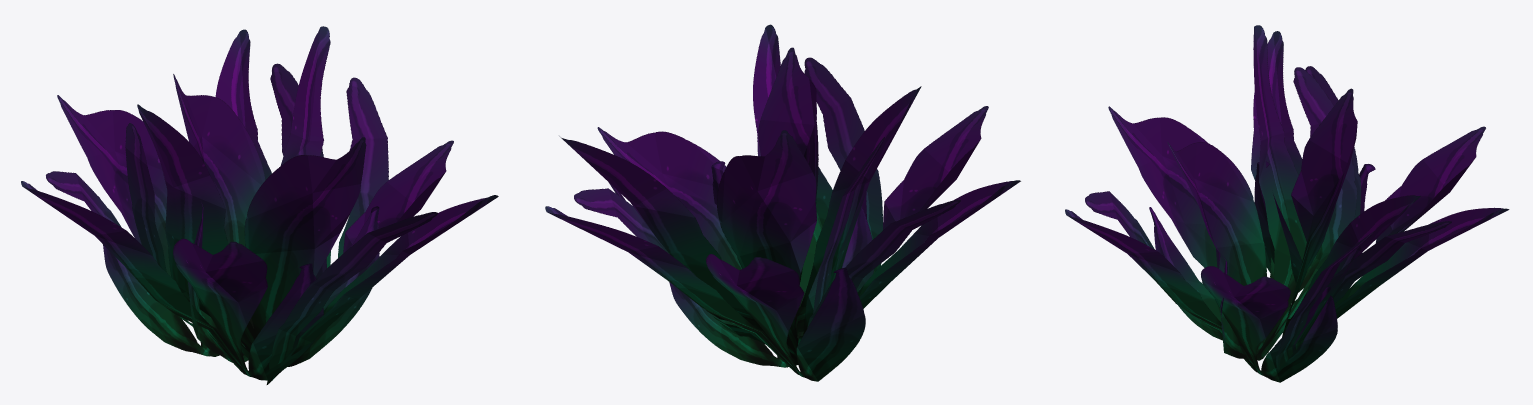
File: StrangeFoliage(SimpleMesh).fbx
The picture shows the model from 3 angles, left to right: view 1: azimuth 30°, elevation 25°; view 2: azimuth 150°, elevation 25°; view 3: azimuth 270°, elevation 25°; orthographic projection. The views are drawn at different scales.
Parts seen in each view (by area): view 1: StrangerLeave01; view 2: StrangerLeave01; view 3: StrangerLeave01.
Boxes of the visible parts, x1,y1,x2,y2 form: StrangerLeave01: (21, 26, 498, 384); StrangerLeave01: (545, 24, 1020, 381); StrangerLeave01: (1065, 25, 1509, 382).
Size of the model in its own units: 102 by 69.3 by 95.23.
